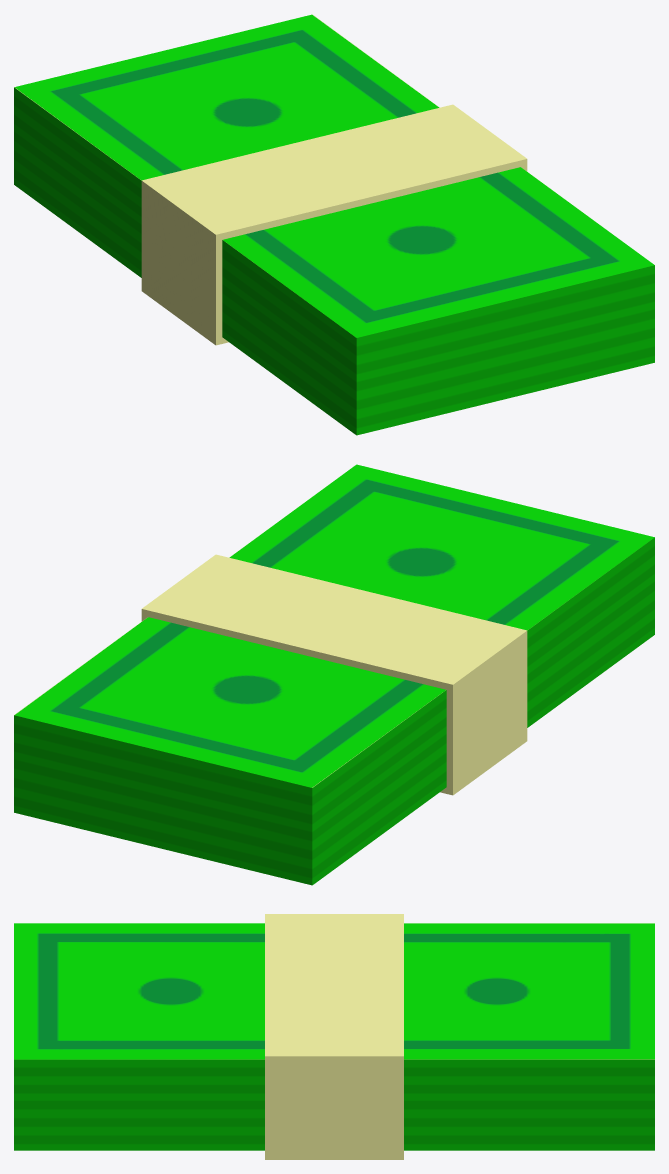
File: Money.fbx
3 views of the same model, one above another, from view 1: azimuth 30°, elevation 25°; view 2: azimuth 150°, elevation 25°; view 3: azimuth 270°, elevation 25° (orthographic). The views are drawn at different scales.
Parts seen in each view (by area): view 1: Money; view 2: Money; view 3: Money.
Part boxes in pixels (x1,y1,x2,y2): Money: (14,14,654,435); Money: (14,464,654,885); Money: (14,914,654,1159).
Size of the model in its own units: 258 by 87.64 by 492.
1 material, 1 textured.
